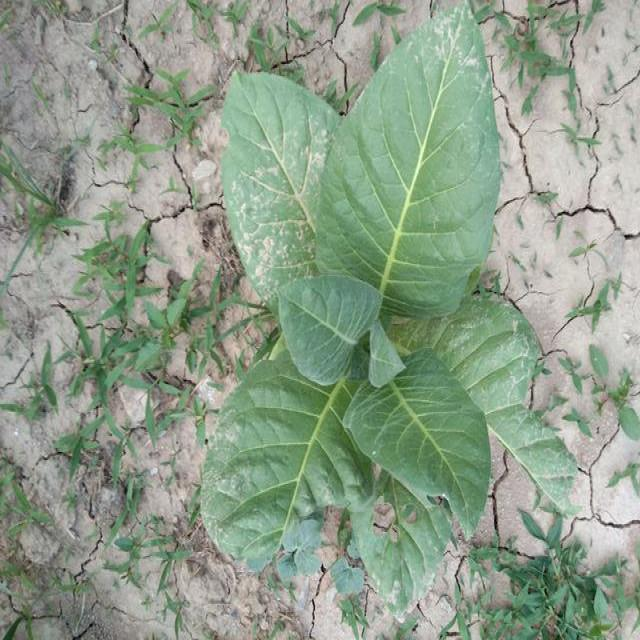crop: (186, 19, 584, 565)
